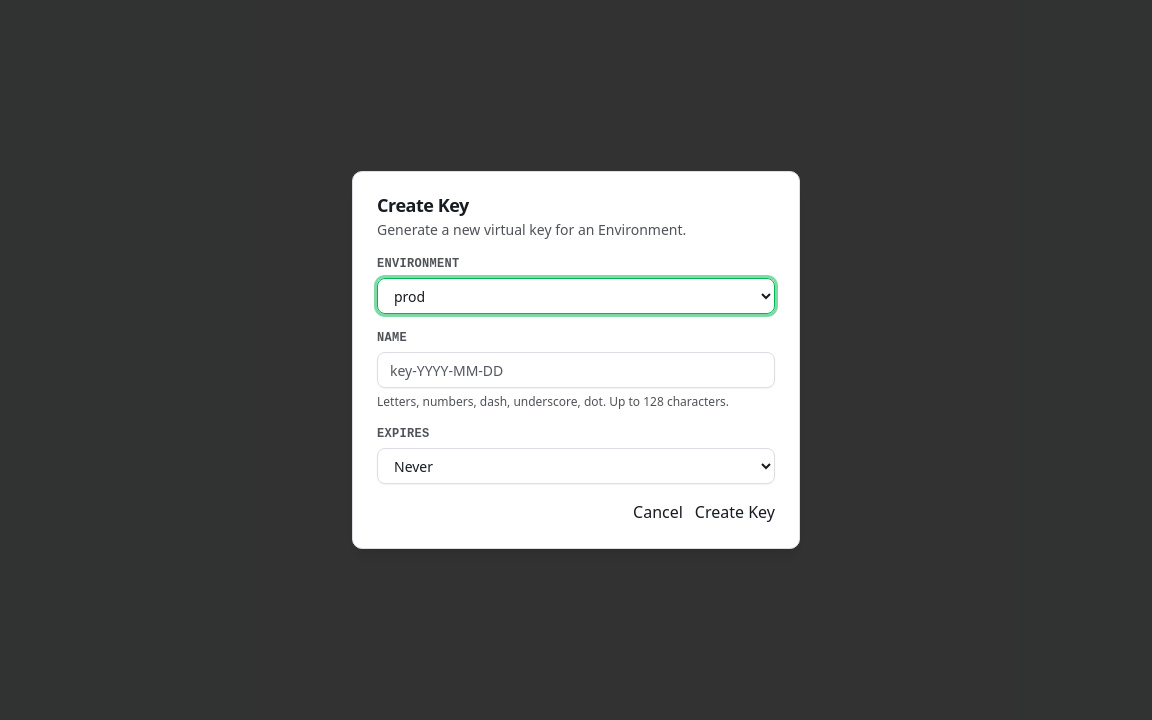
it: CreateKeyModal — server error routing › a 502 rejection (detail null) shows CREATE_502_ERROR
This screenshot has width=1152, height=720.
Type "my-key" into the field labelled "name". click: [576, 370]
box: [377,352,775,388]
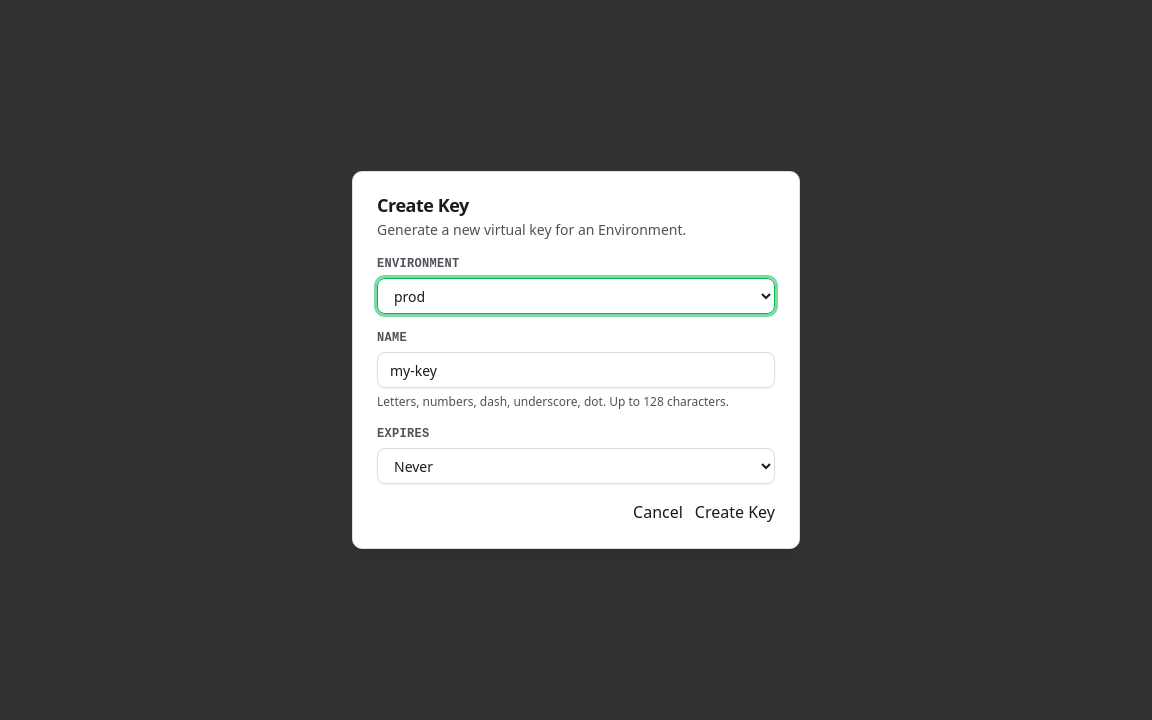
Click the button "Create Key". click: [735, 512]
box: [695,500,775,524]
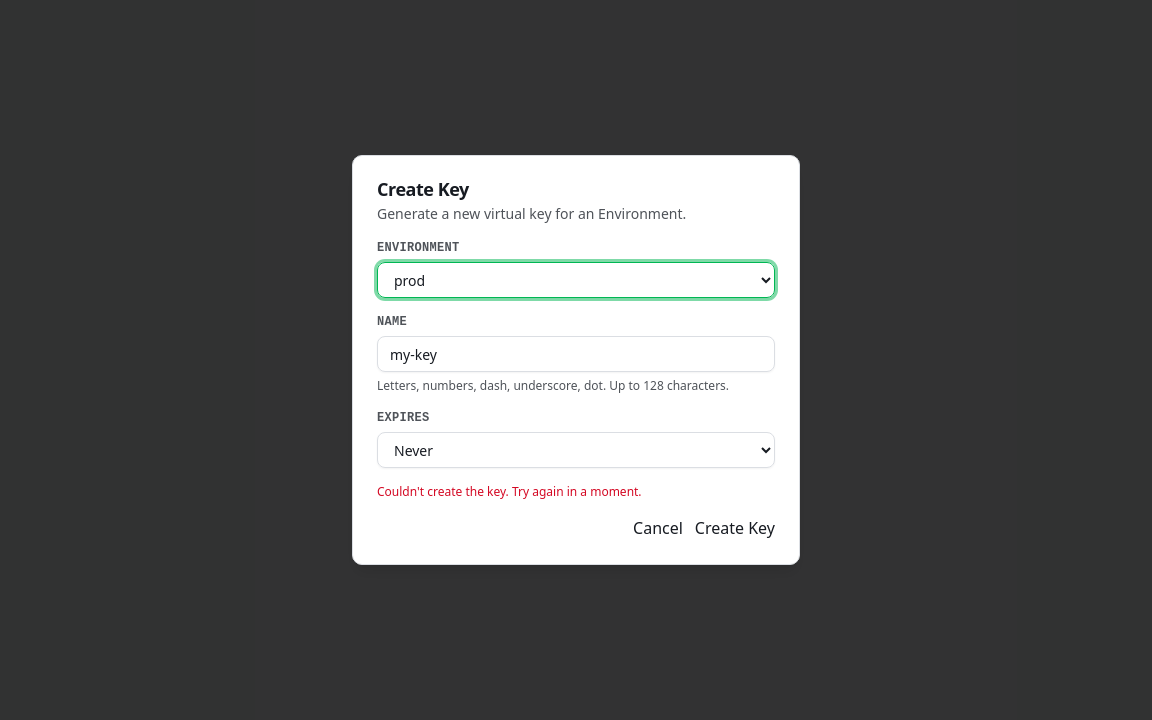
Expected: the text "Couldn't create the key. Try again in a moment." is shown, [377,483,642,500]
